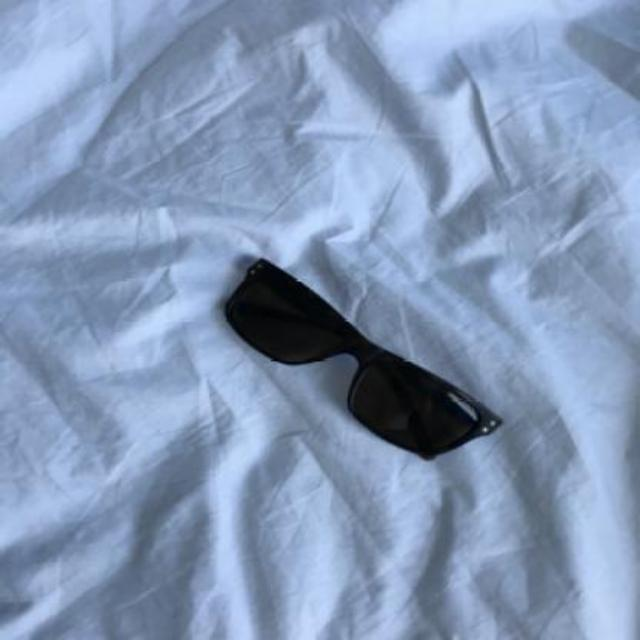sunglasses: (222, 258, 506, 462)
